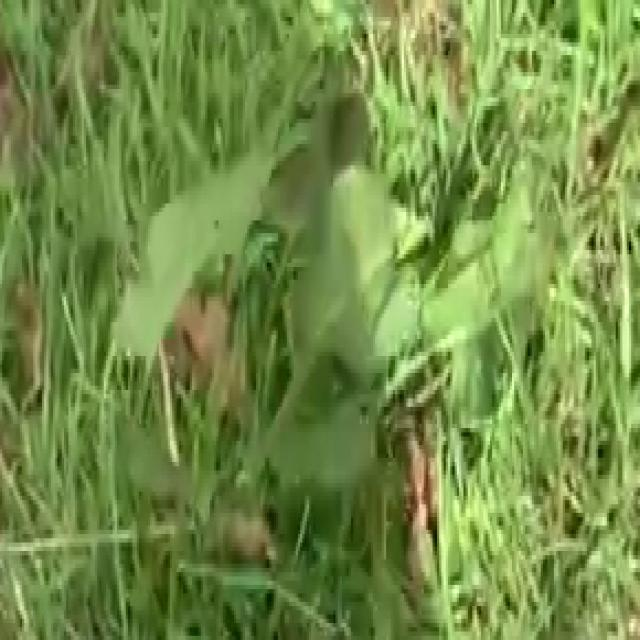organic waste: (80, 21, 534, 576)
